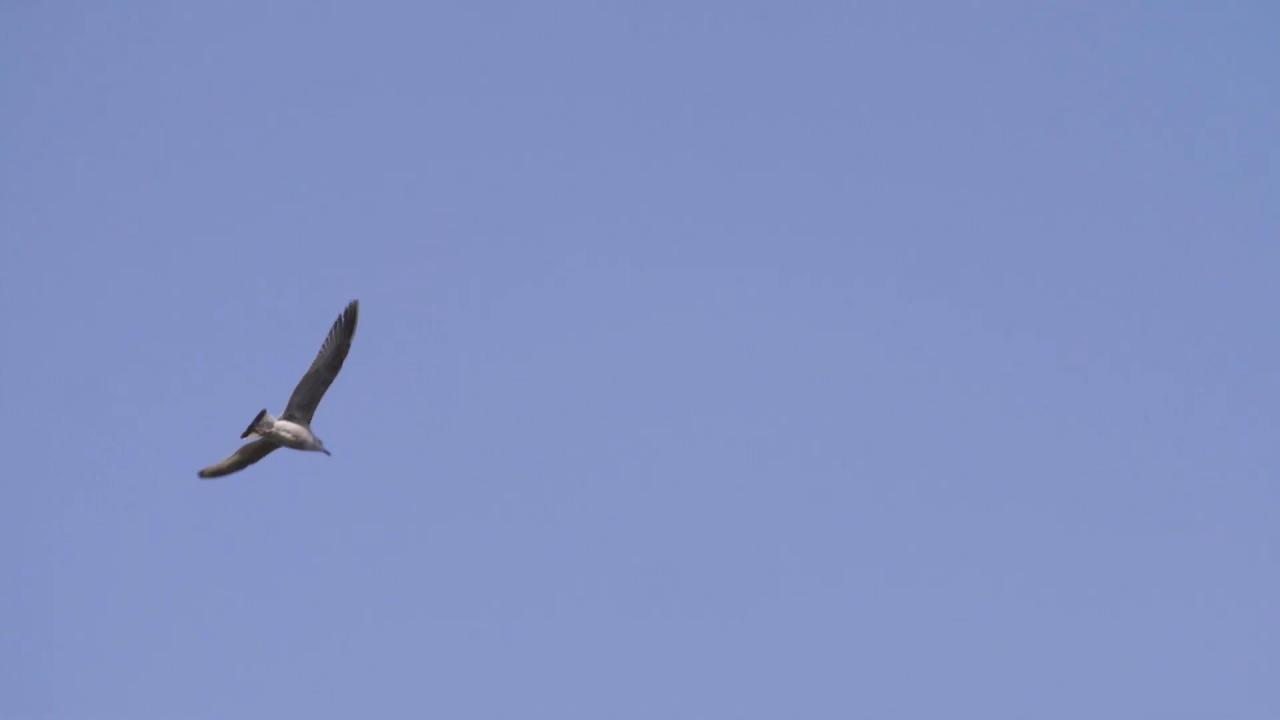Bird: (187, 288, 368, 485)
